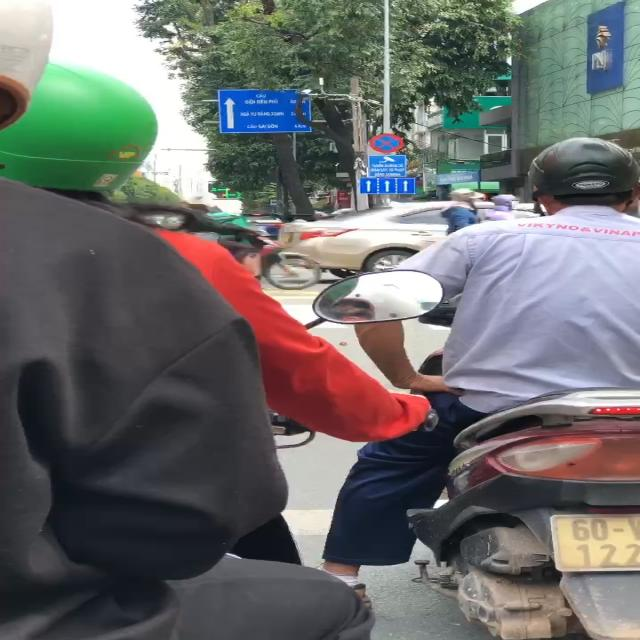Bien bao cam dung xe va do xe: (368, 133, 407, 154)
